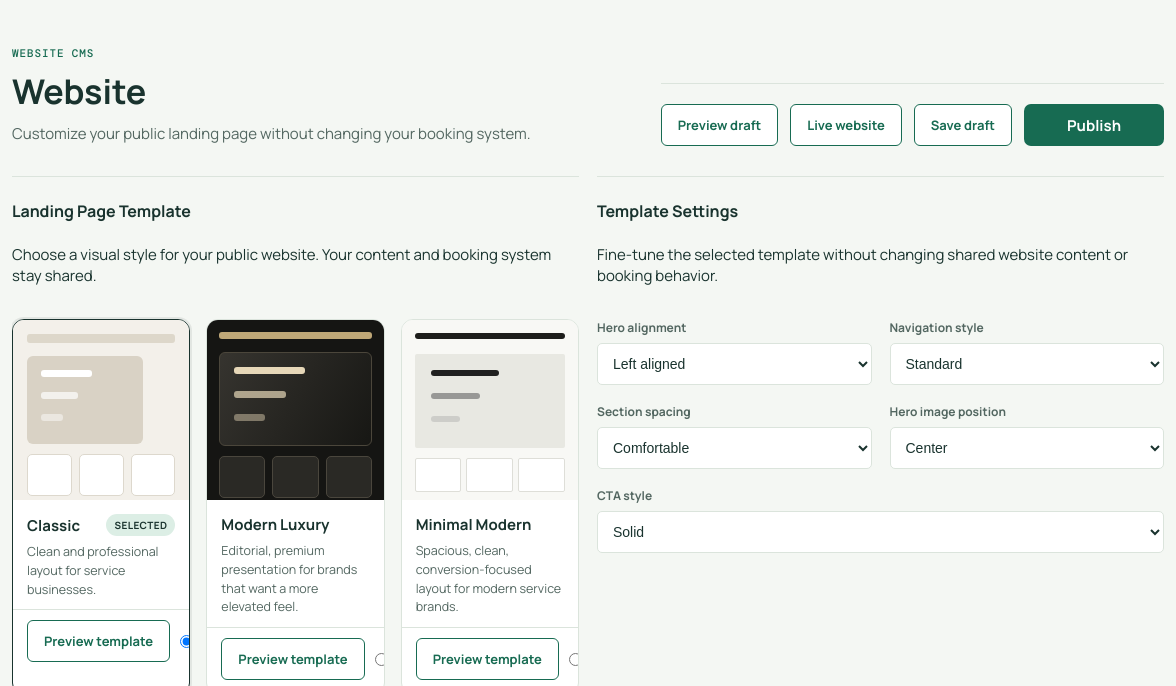
it: WebsiteManagementPage › surfaces a Save Draft failure
Click the button "Save draft" at (963,125), box 914,104 -> 1012,146
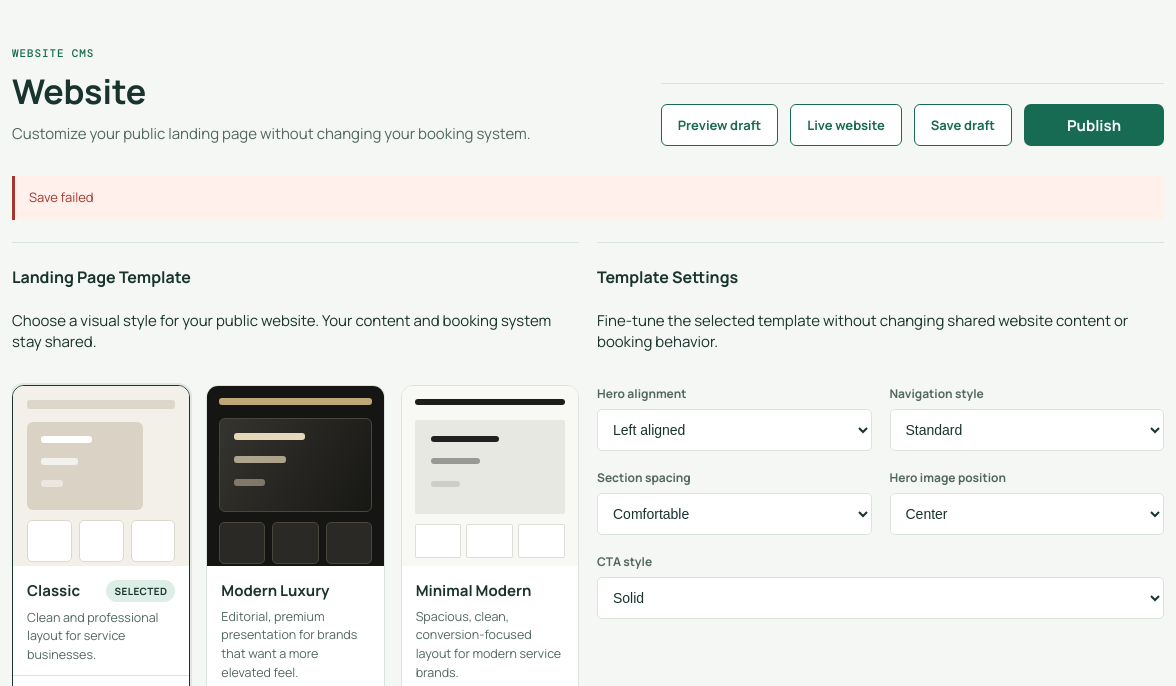
expect the message reads "Save failed": met, box 29,188 -> 94,206
